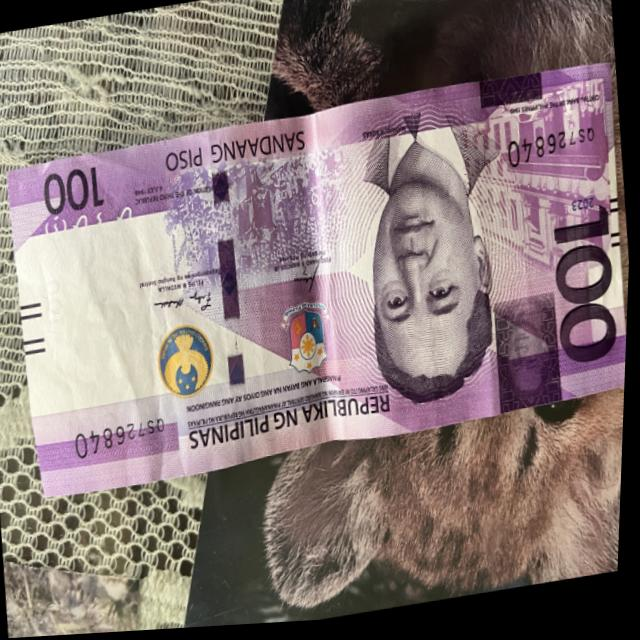concealed_value: (488, 294, 569, 420)
security_thread: (192, 127, 261, 421)
see_through_mark: (35, 191, 148, 253)
value: (544, 205, 628, 380)
value_watermark: (38, 265, 73, 330)
watermark: (28, 218, 173, 423)
